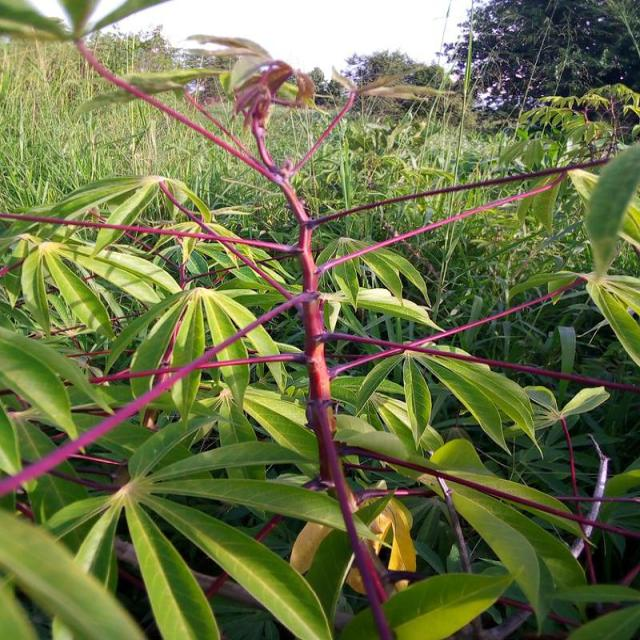cassava leaf: (0, 18, 638, 637)
